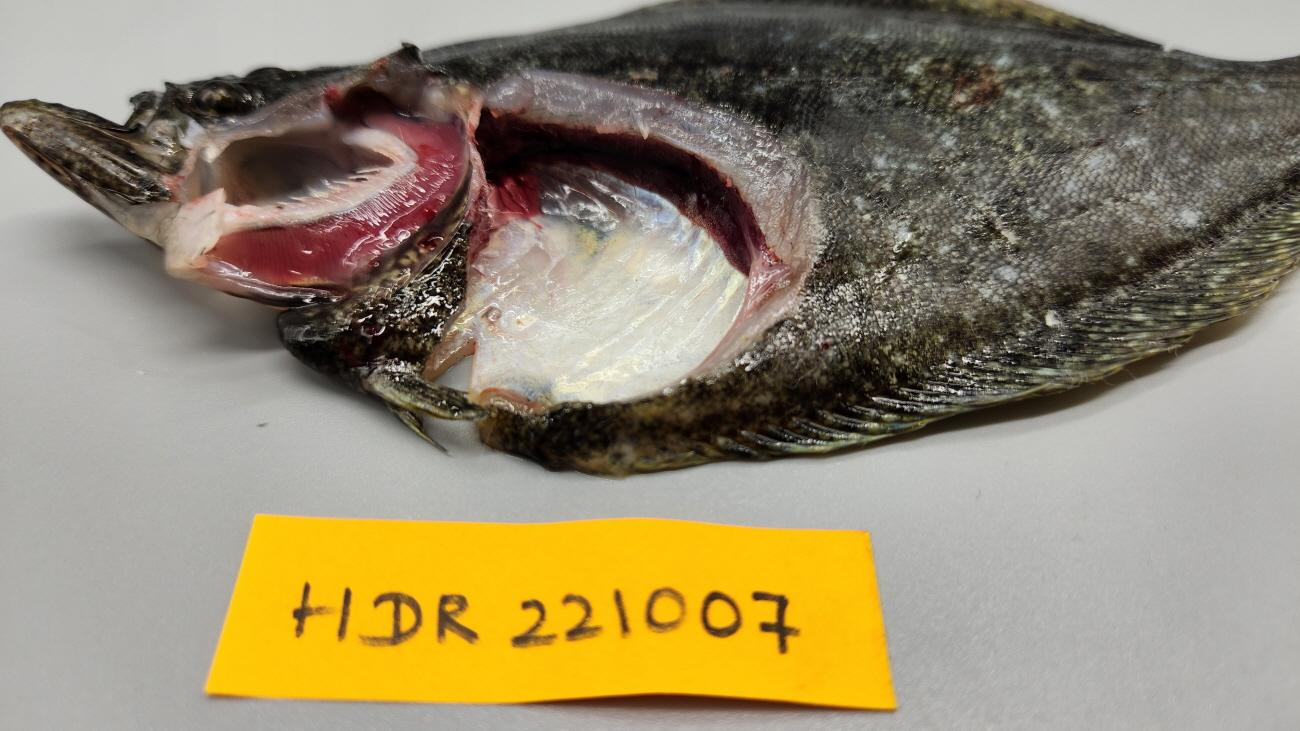POASN: (421, 167, 748, 405)
POKIN: (475, 110, 766, 279)
